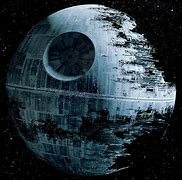Death Star: (11, 7, 179, 171)
